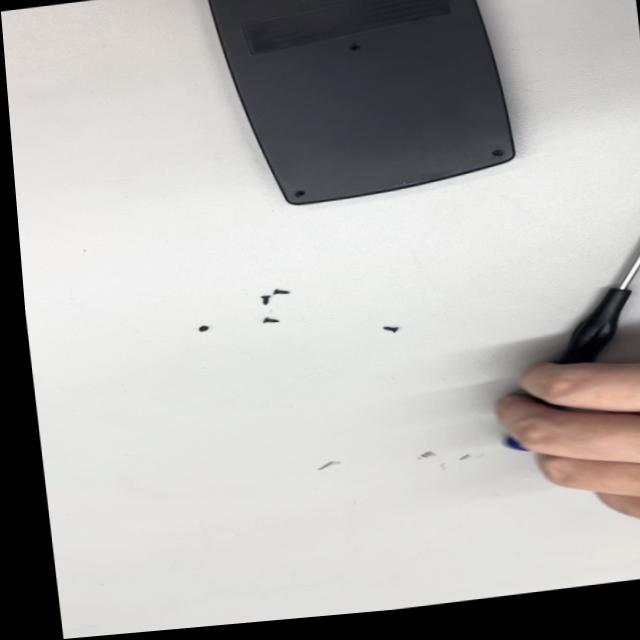back_cover: (184, 0, 531, 218)
screw: (380, 318, 403, 340), (254, 289, 277, 311), (192, 318, 215, 337), (260, 312, 281, 330), (274, 284, 293, 300)
